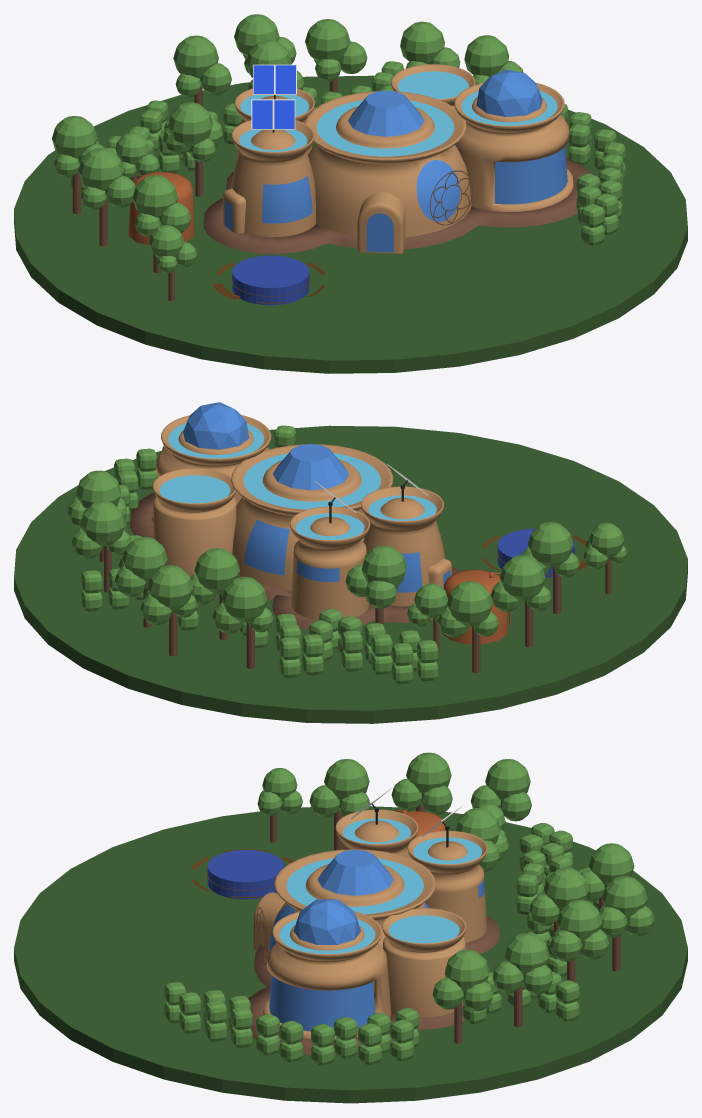
The model's file is solarpunk_island.glb.
3 renders of one model, top to bottom at view 1: azimuth 30°, elevation 25°; view 2: azimuth 150°, elevation 25°; view 3: azimuth 270°, elevation 25°, orthographic.
Visible parts, largest first — view 1: Ground.002, Trees, MainHouse, Shrubs, Bedroom, GreenHouse, Outeir, water.004, Circle, GreenHouse_window, Solarpanels, TopWindow (+9 smaller); view 2: Ground.002, Trees, Shrubs, MainHouse, water.004, Bathroom, Bedroom, WaterStorer, GreenHouse, TopWindow, GreeHouse_Top, Outeir (+2 smaller); view 3: Ground.002, Trees, Shrubs, water.004, GreenHouse, WaterStorer, Bathroom, MainHouse, GreenHouse_window, Circle, TopWindow, Outeir (+4 smaller).
Boxes of the visible parts, left/top/right/bottom form: Ground.002: left=14, top=75, right=687, bottom=373; Trees: left=52, top=14, right=523, bottom=301; MainHouse: left=304, top=91, right=471, bottom=237; Shrubs: left=71, top=61, right=625, bottom=245; Bedroom: left=230, top=120, right=315, bottom=237; GreenHouse: left=454, top=82, right=573, bottom=211; Outeir: left=203, top=157, right=591, bottom=253; water.004: left=239, top=71, right=557, bottom=156; Circle: left=232, top=255, right=309, bottom=305; GreenHouse_window: left=494, top=147, right=567, bottom=204; Solarpanels: left=251, top=64, right=296, bottom=132; TopWindow: left=348, top=90, right=424, bottom=136; Ground.002: left=14, top=425, right=687, bottom=723; Trees: left=67, top=470, right=626, bottom=672; Shrubs: left=81, top=425, right=438, bottom=683; MainHouse: left=231, top=444, right=393, bottom=590; water.004: left=159, top=423, right=436, bottom=539; Bathroom: left=290, top=506, right=370, bottom=620; Bedroom: left=361, top=486, right=445, bottom=606; WaterStorer: left=152, top=468, right=236, bottom=576; GreenHouse: left=152, top=415, right=271, bottom=522; TopWindow: left=273, top=444, right=348, bottom=490; GreeHouse_Top: left=183, top=402, right=249, bottom=449; Outeir: left=130, top=492, right=460, bottom=629; Ground.002: left=14, top=806, right=687, bottom=1103; Trees: left=257, top=752, right=654, bottom=1043; Shrubs: left=164, top=823, right=598, bottom=1065; water.004: left=279, top=818, right=481, bottom=954; GreenHouse: left=263, top=911, right=391, bottom=1039; WaterStorer: left=382, top=908, right=466, bottom=1017; Bathroom: left=407, top=830, right=487, bottom=942; MainHouse: left=268, top=849, right=435, bottom=952; GreenHouse_window: left=269, top=975, right=374, bottom=1031; Circle: left=207, top=850, right=284, bottom=899; TopWindow: left=317, top=849, right=393, bottom=895; Outeir: left=248, top=916, right=499, bottom=1055.
Bounding box in the file's own units: 13.32 × 3.35 × 13.32.
